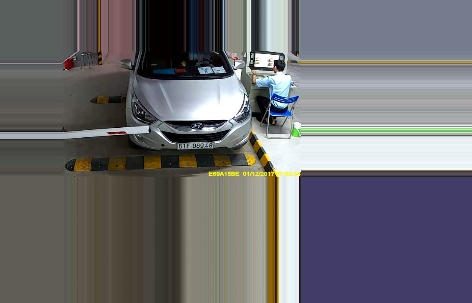plate: (176, 139, 214, 151)
